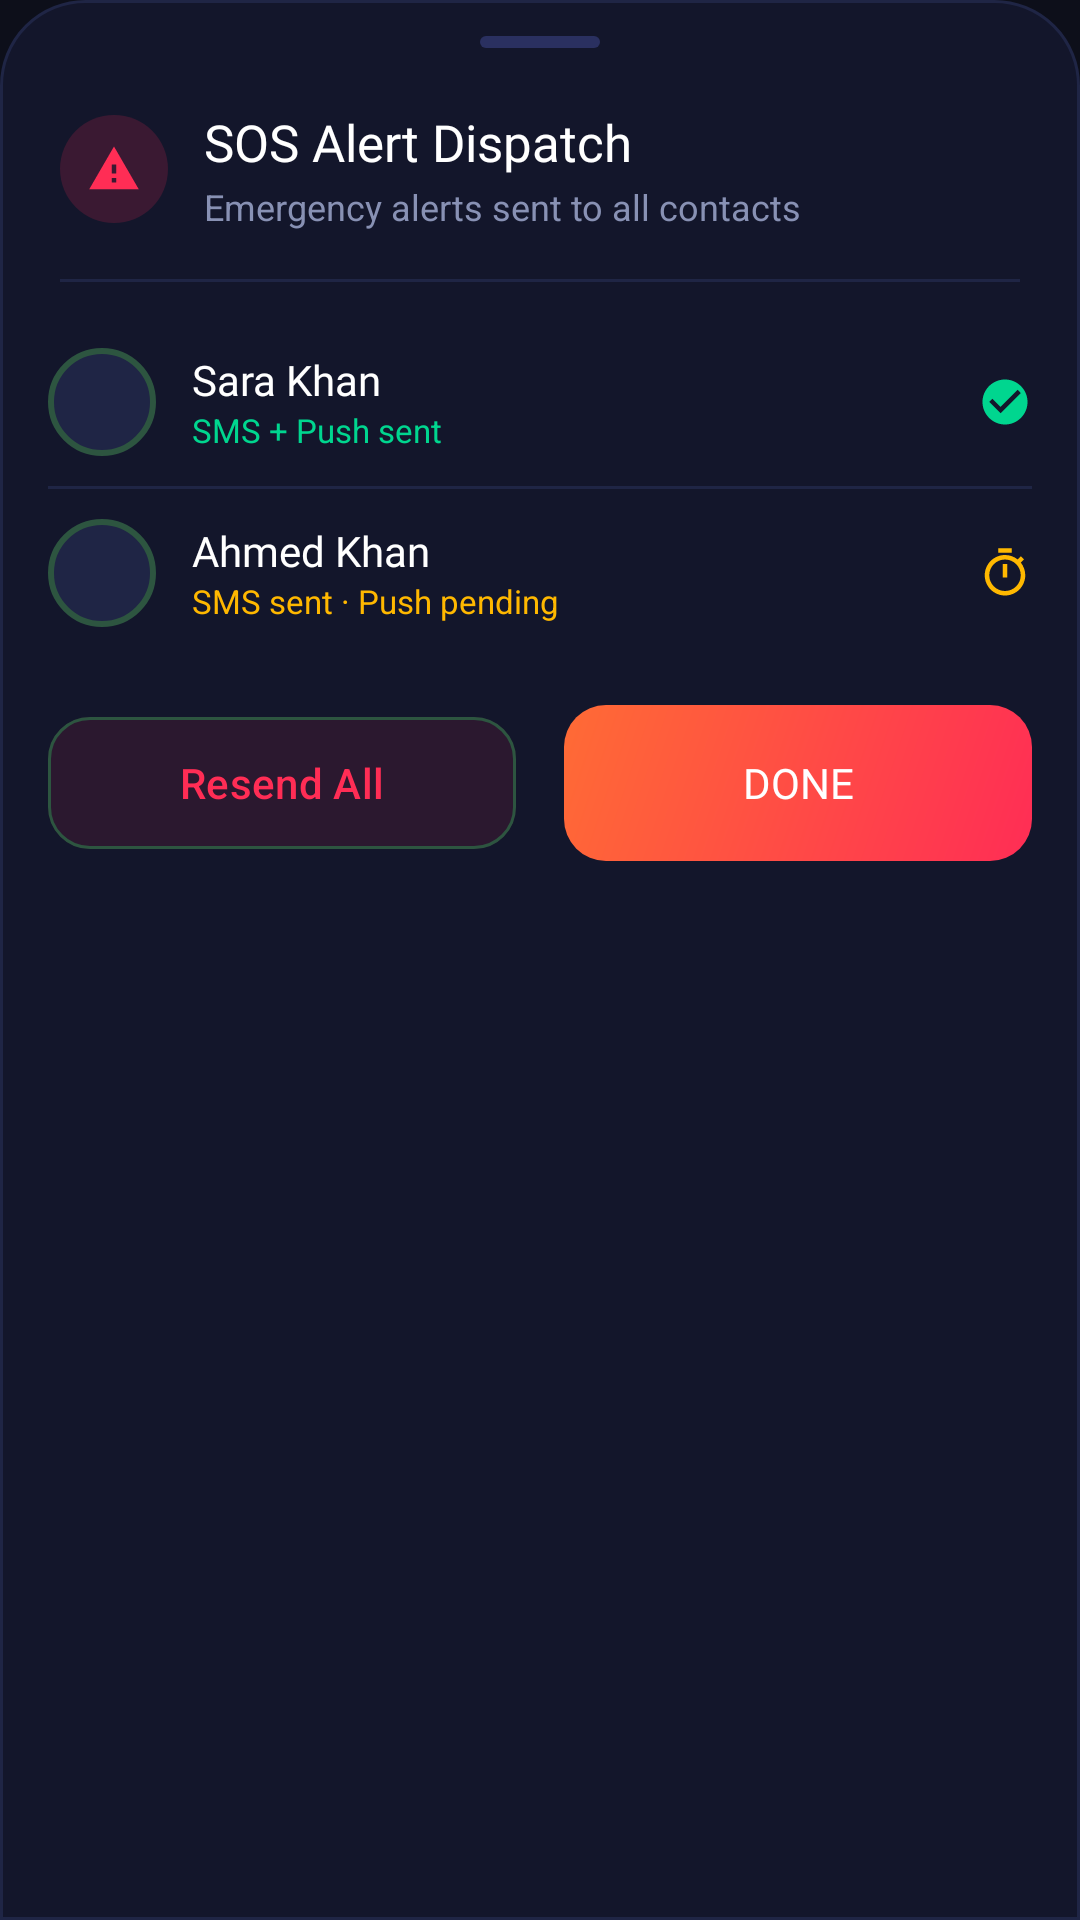

Where icons sit on this 1080×1920 app screen, as (x1, y1, x2, y2):
check circle: (982, 379, 1028, 425)
timer: (984, 548, 1026, 596)
